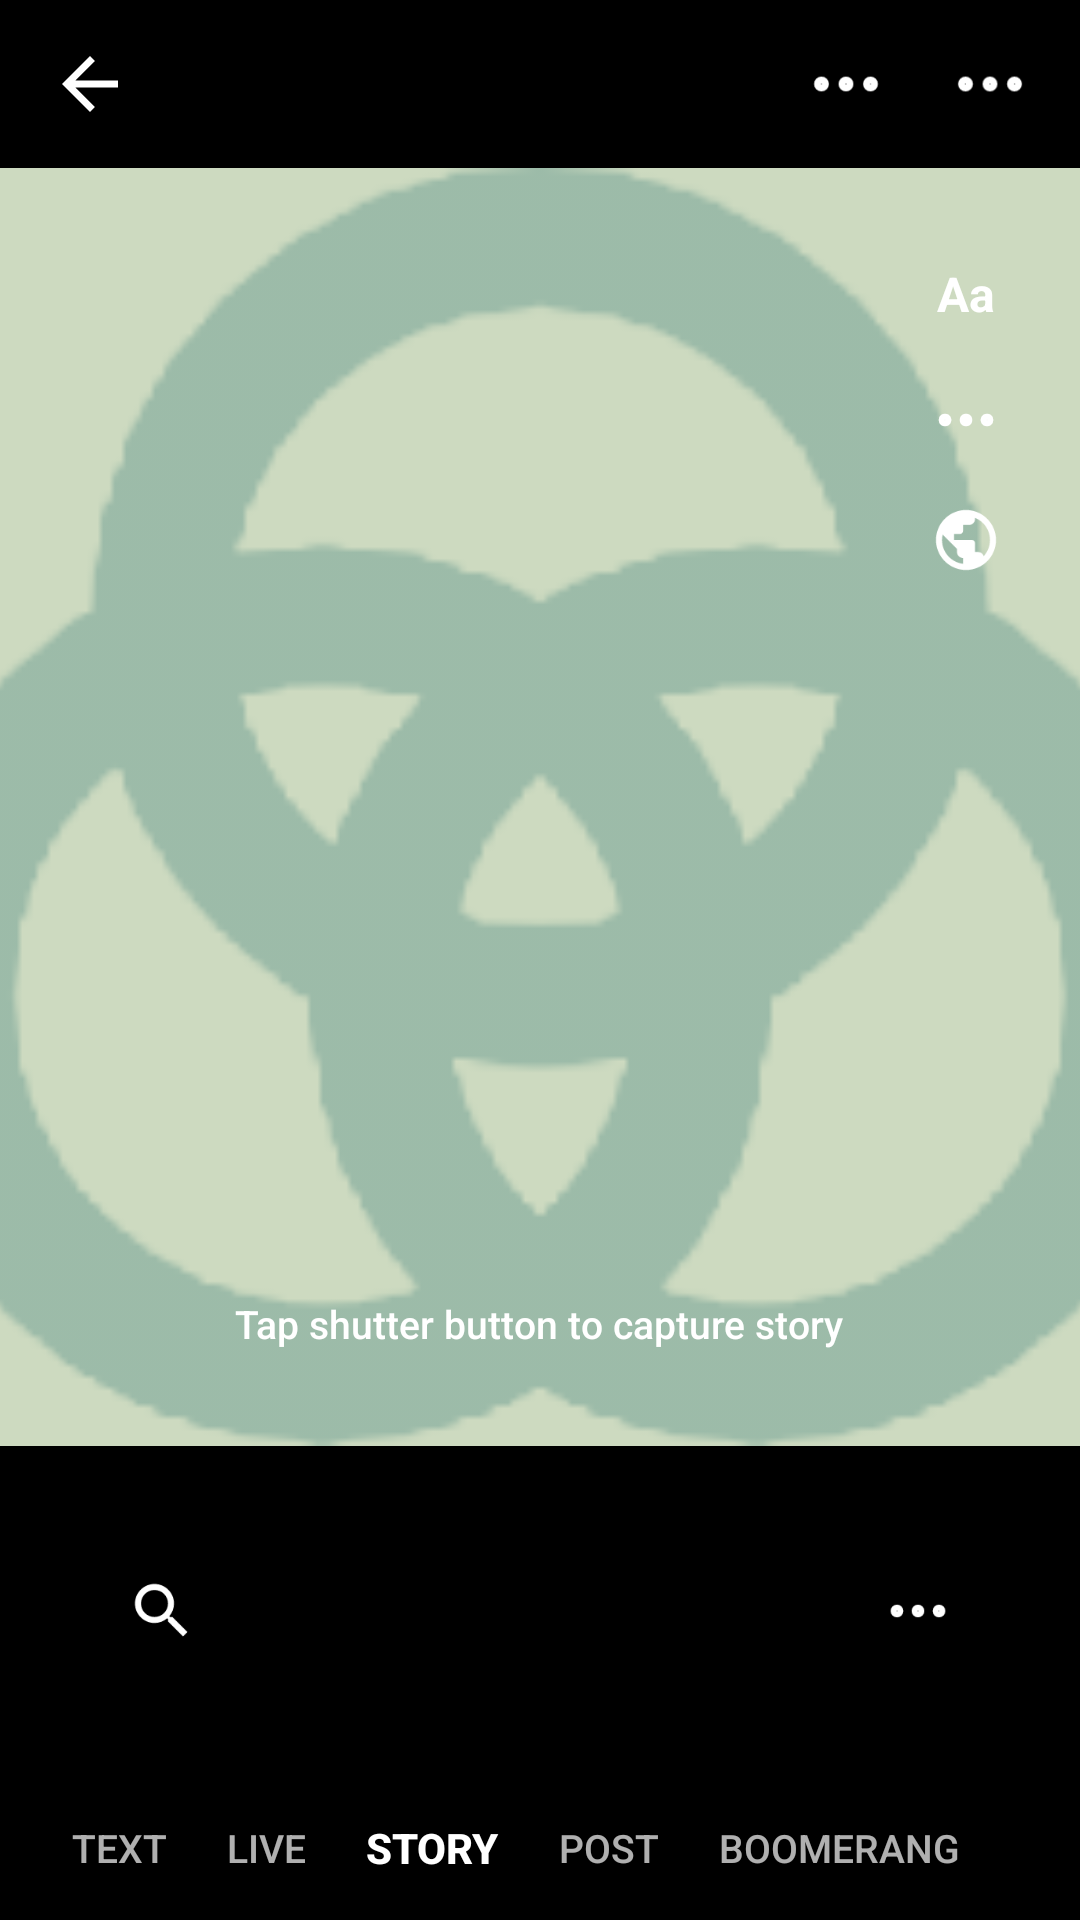

Icons on this 1080x1920 Android screen, each with the point to tap as (x,y):
globe: (966,540)
